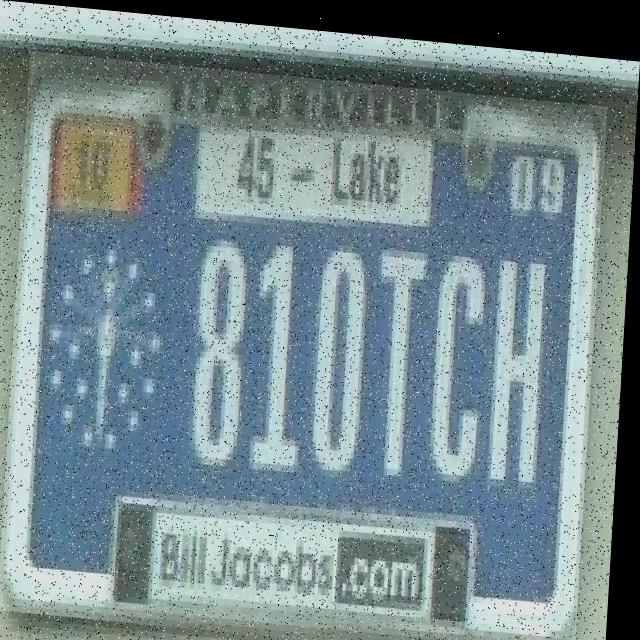LicensePlate: (5, 51, 608, 640)
